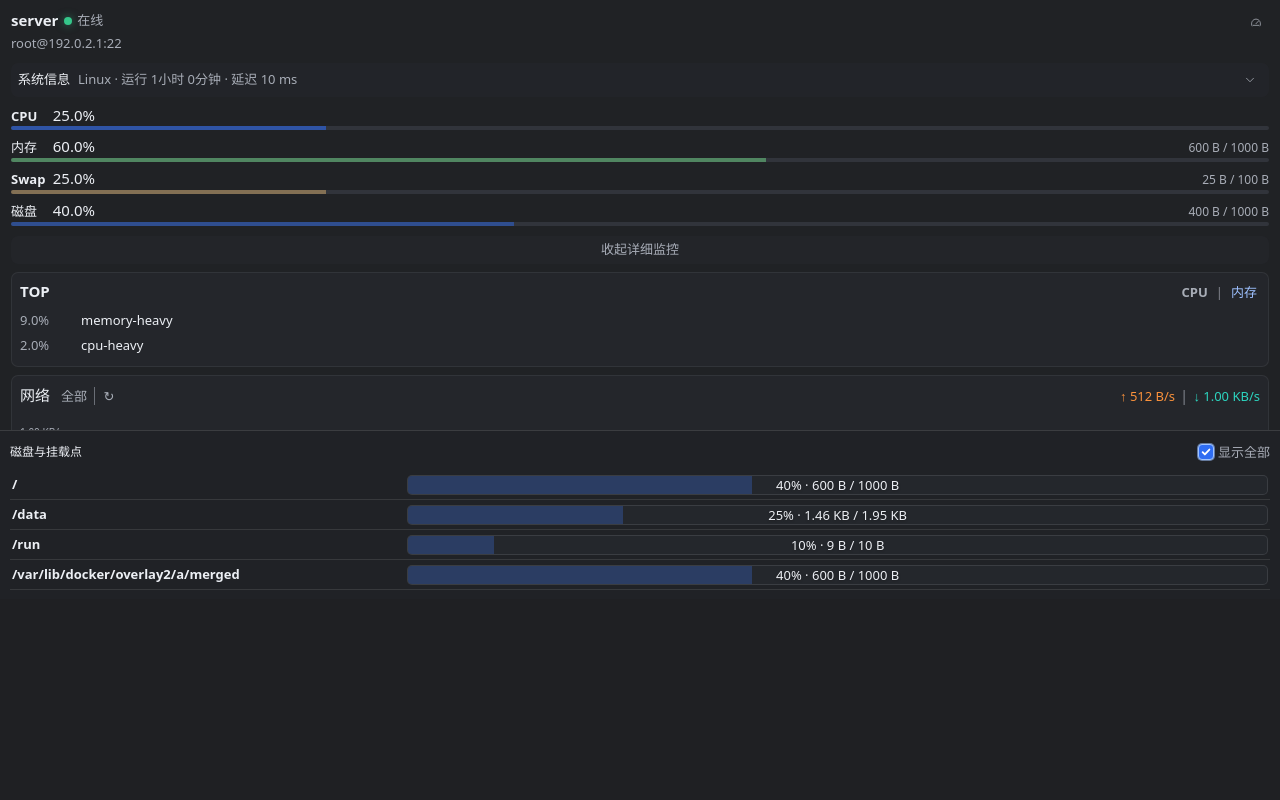
Test: CompactMonitorSidebar › shows pseudo filesystem mounts by default and hides them when show all is disabled
Step 1. Click the checkbox labelled "显示全部" → [1206, 452], box left=1198, top=444, right=1214, bottom=460
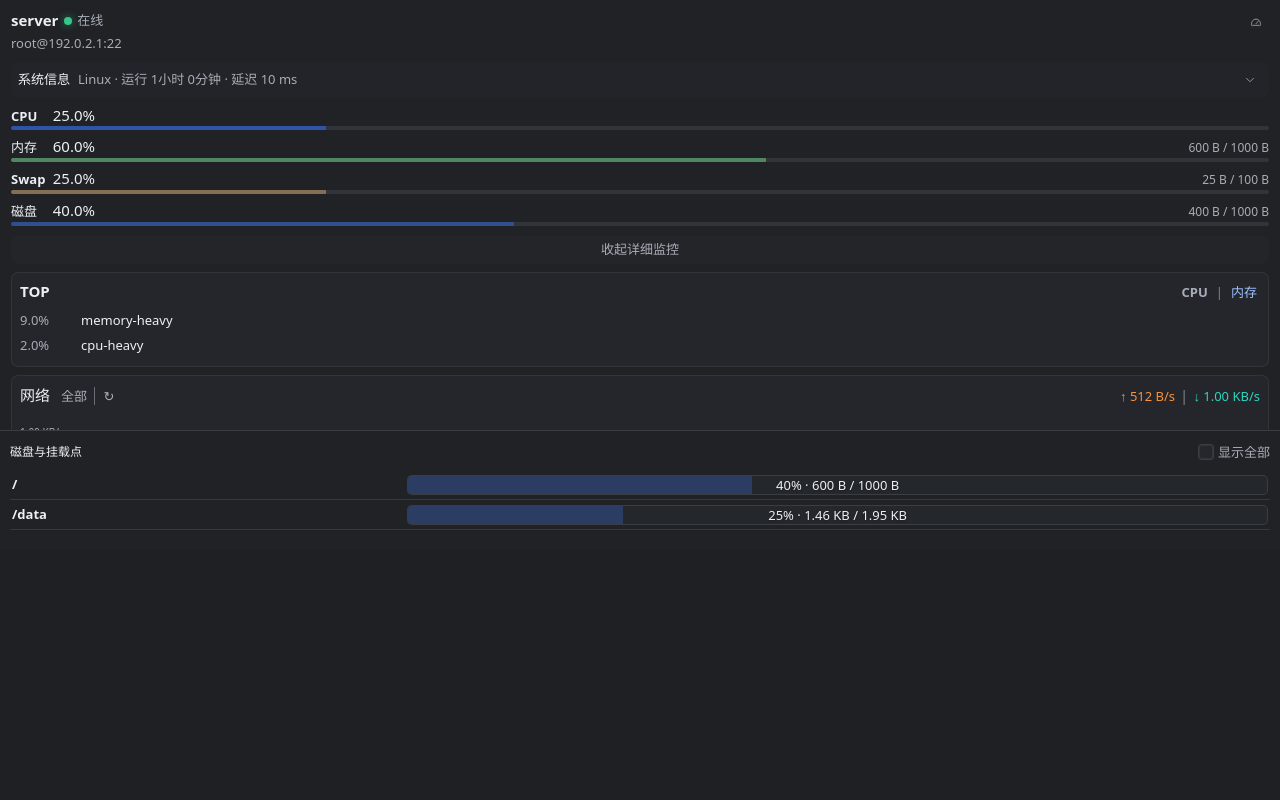
Result: the text "/run" is gone
